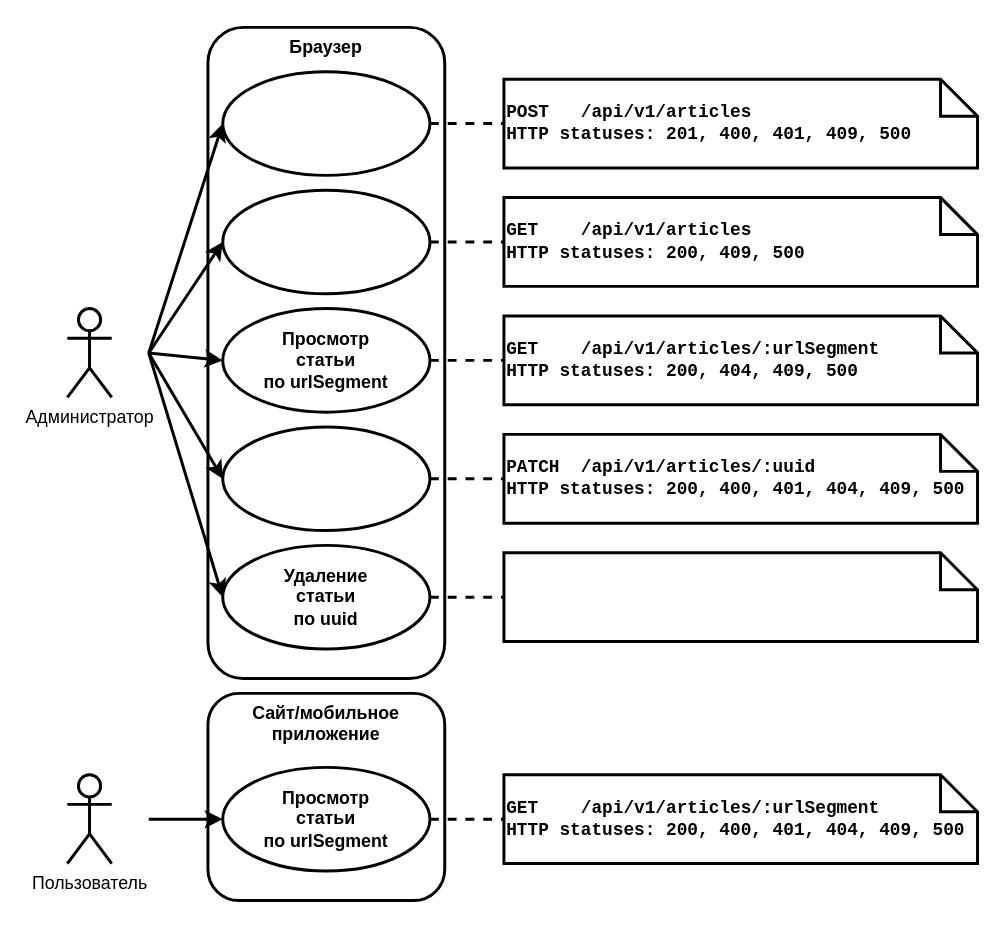
The diagram is 1005 pixels wide and 932 high, and some of its shapes have lost their labels. Here are the shapes that lost their labels. From the top down, the centre of each, then its label:
At point (326, 123): "Создание статьи".
At point (326, 241): "Просмотр статей".
At point (326, 478): "Обновление статьи по uuid".
At point (740, 596): "DELETE /api/v1/articles/:uuid HTTP statuses: 200, 400, 401, 404, 409, 500".
